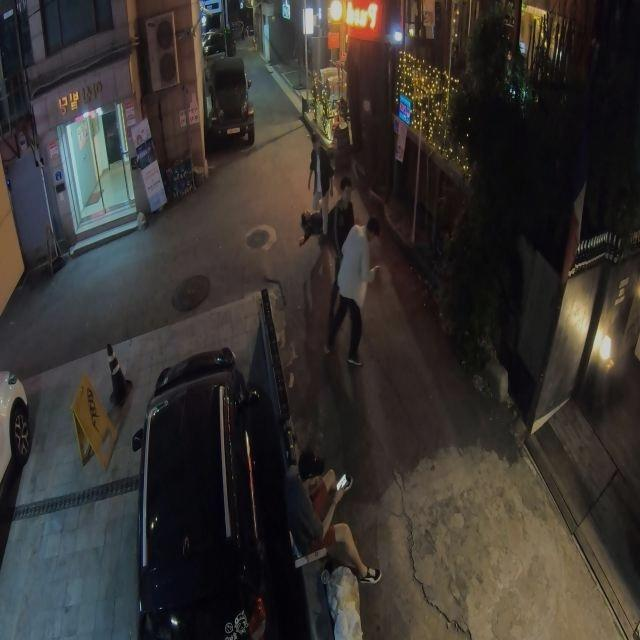non-fight: (318, 215, 384, 368), (325, 175, 358, 339), (303, 132, 336, 241)
